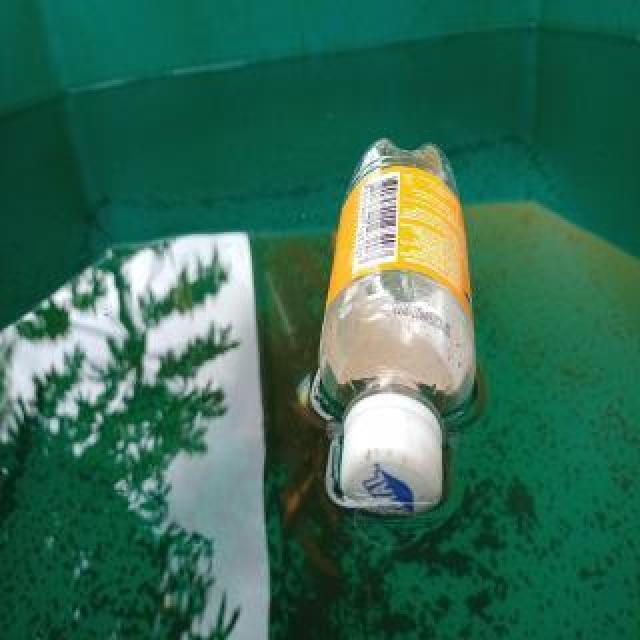bottle: (313, 129, 481, 519)
